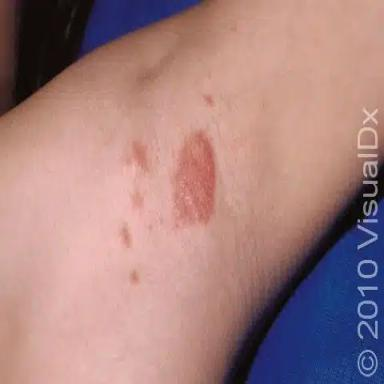Psoriasis: (173, 130, 215, 226), (131, 142, 150, 209), (120, 222, 131, 248), (203, 94, 215, 108), (130, 270, 140, 284)
